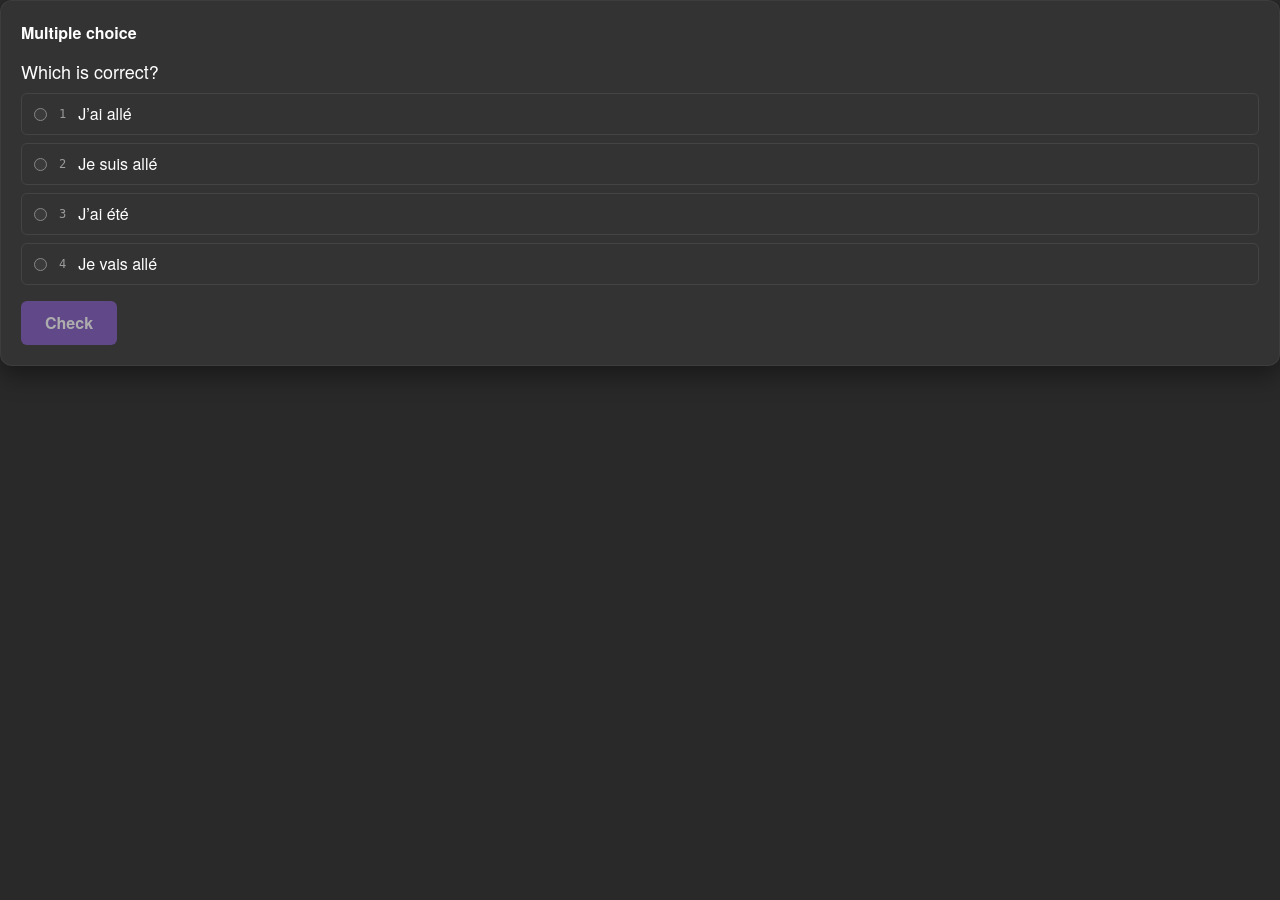
Scenario: ExerciseCard › multiple_choice: number keys select, result highlights the correct index
Step 1. Click the radio button labelled "1 J’ai allé" → [40, 114], box [34,108,47,120]
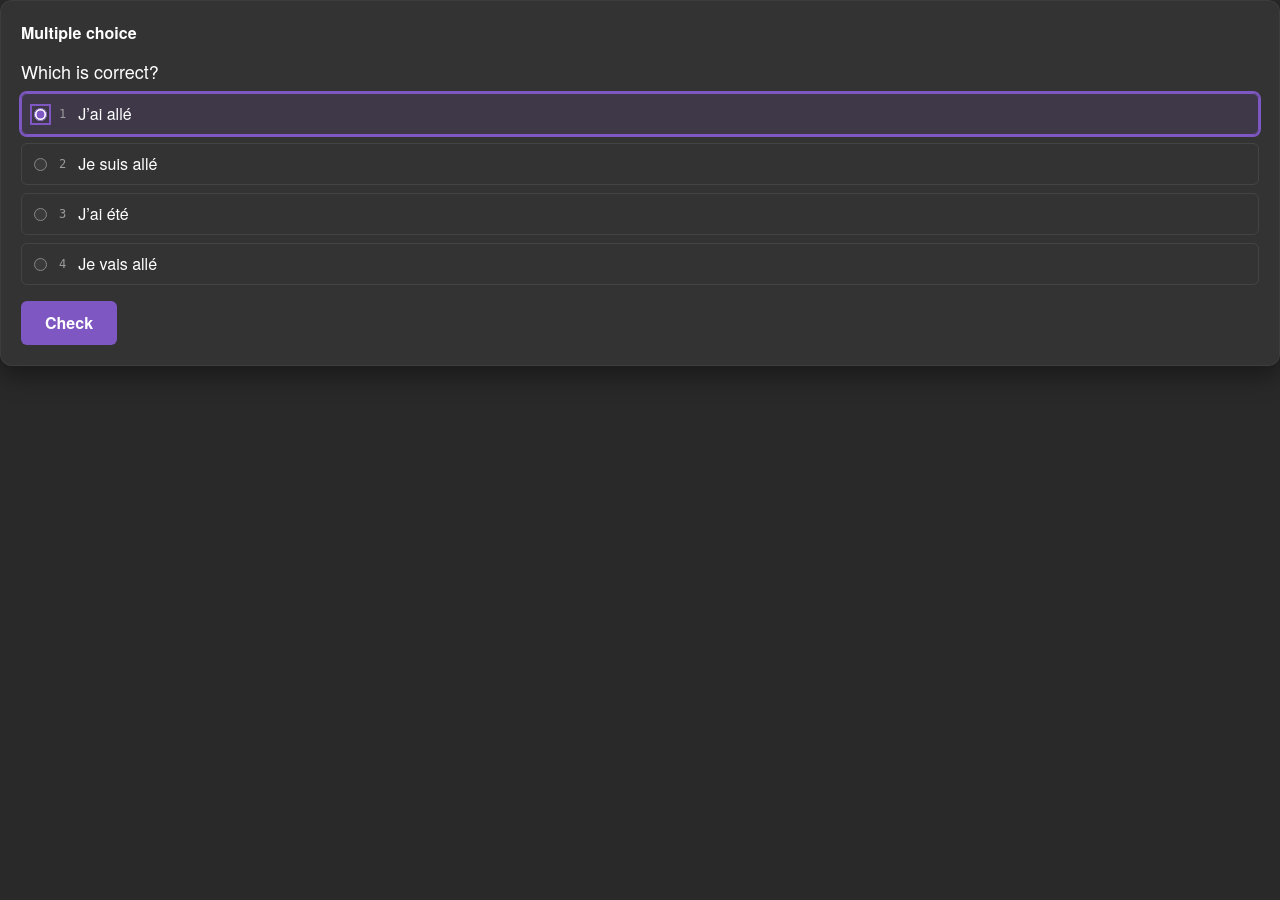
Step 2. Type keys "3"
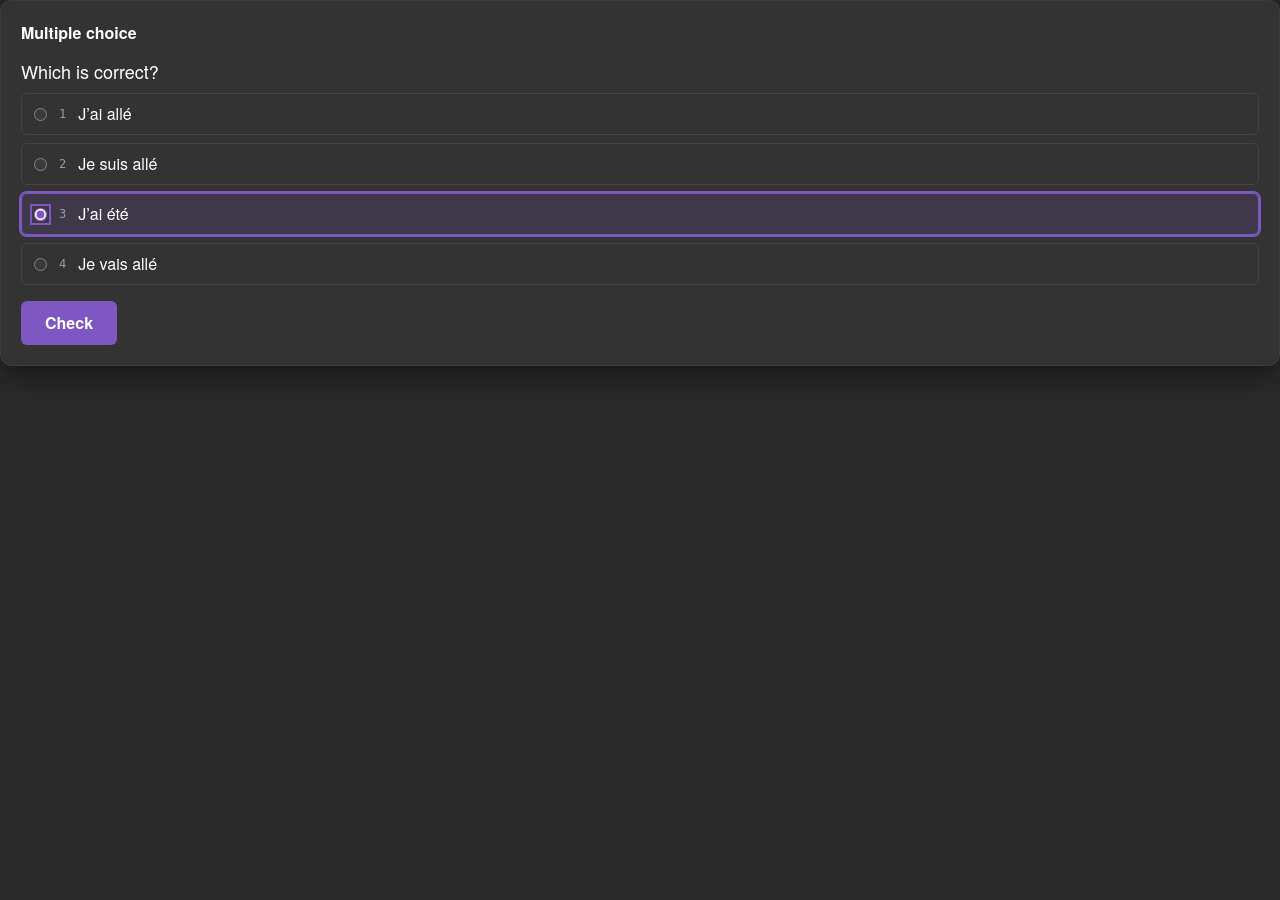
Now the radio button labelled "3 J’ai été" is checked, box [34,208,47,220]
Step 3. Press Enter
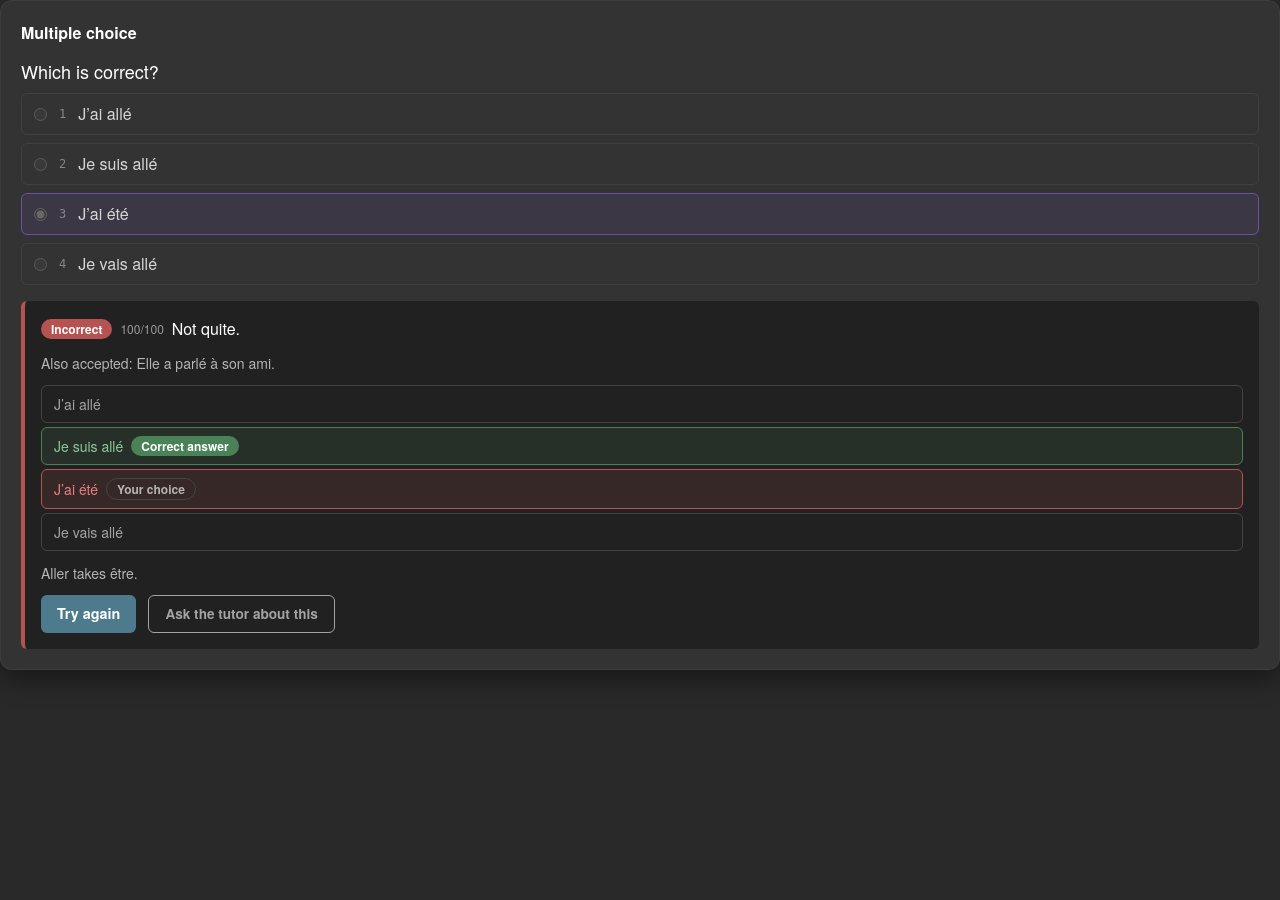
Now the text "Your choice" is shown, box [106,478,196,500]
Now the text "Aller takes être." is shown, box [41,563,138,583]
